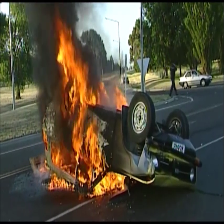fire_h: (51, 13, 108, 184), (88, 171, 126, 198), (45, 173, 75, 190)
fire_l: (114, 87, 129, 110), (39, 160, 50, 172), (43, 130, 48, 150)
